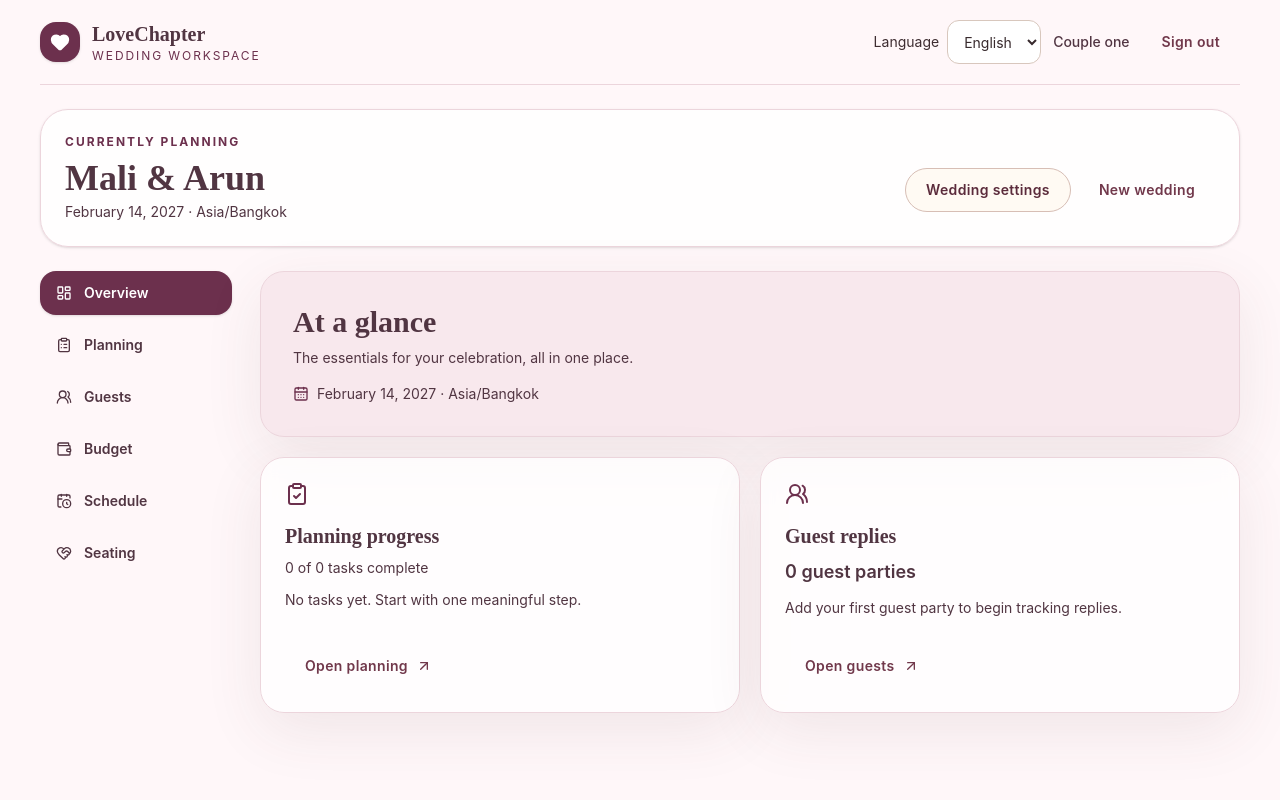
CoupleWorkspace › offers retry instead of an empty guest editor when the guest read fails
Click the button "Guests" at [136, 397], box [40,375,232,419]
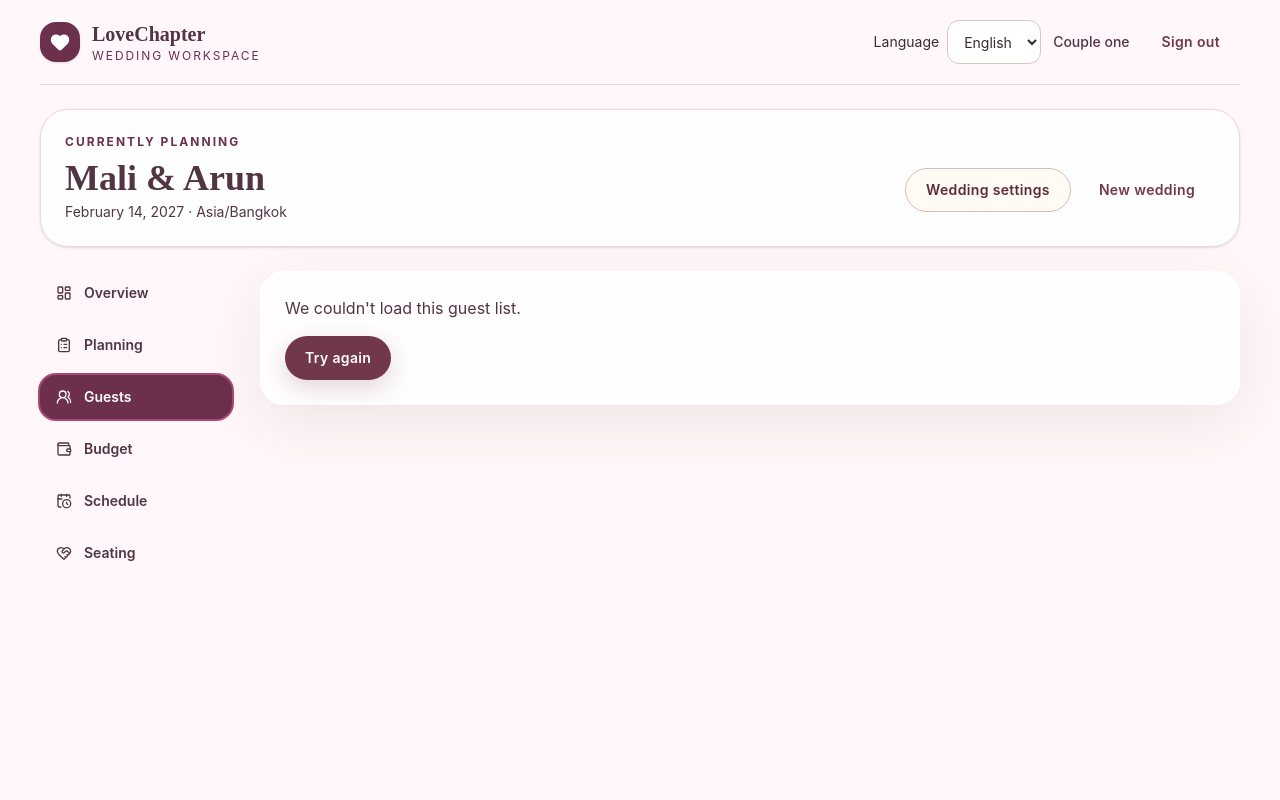
Check: the field labelled "guest name" is not shown
Check: the message "We couldn't load this guest list. Try again" is shown, box [260,271,1240,405]
Click the button "Try again" at [338, 358], box [285,336,391,380]
(page scrolled)
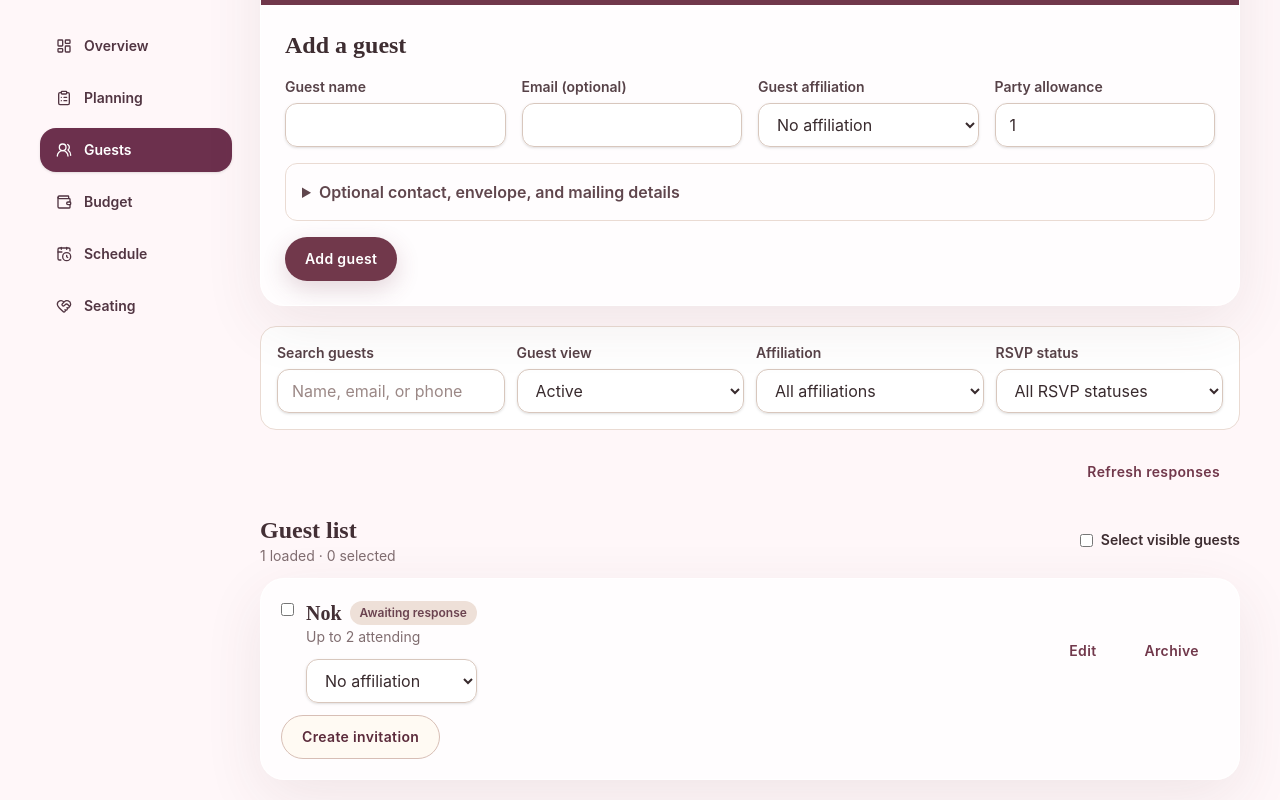
Check: the text "Nok" is shown, box [306,599,342,627]
